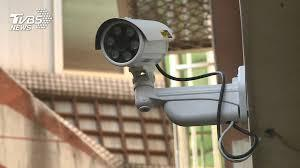Monitor: (90, 10, 214, 127)
